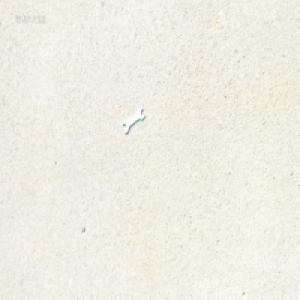Wrench: (120, 107, 143, 135)
